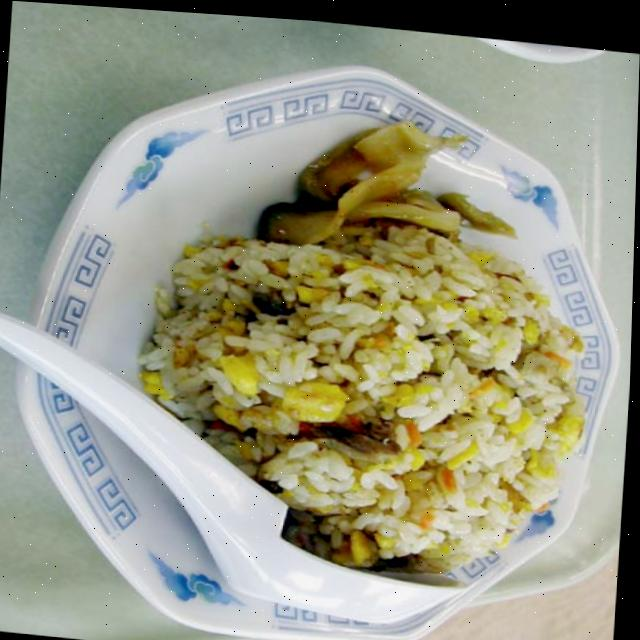米饭主食: (2, 24, 639, 640)
